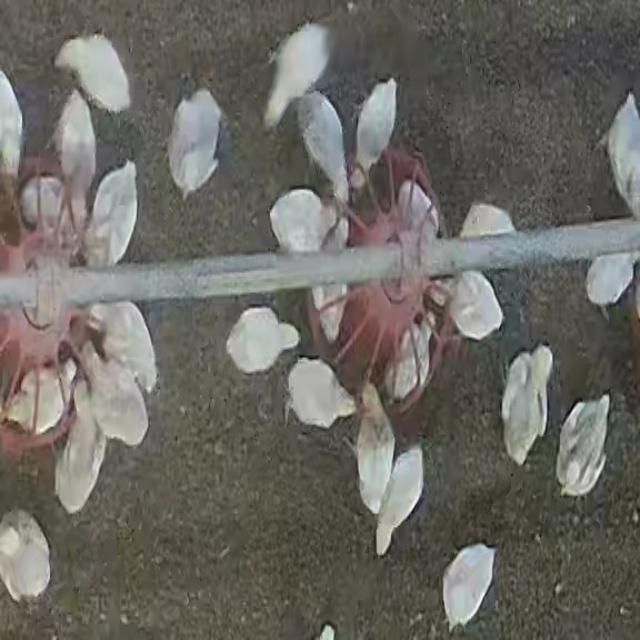chicken: (258, 16, 332, 131), (52, 27, 136, 121), (79, 156, 143, 266), (90, 300, 158, 398), (54, 385, 106, 513), (168, 84, 224, 200), (83, 353, 150, 448), (500, 347, 552, 465), (5, 352, 78, 432), (439, 537, 498, 635), (554, 394, 610, 497), (353, 384, 396, 518), (223, 304, 304, 374), (375, 446, 426, 555), (284, 355, 356, 430), (0, 506, 56, 601), (352, 75, 398, 189), (268, 189, 338, 257), (383, 315, 435, 406), (449, 272, 505, 341), (18, 174, 67, 238), (585, 250, 634, 310)
